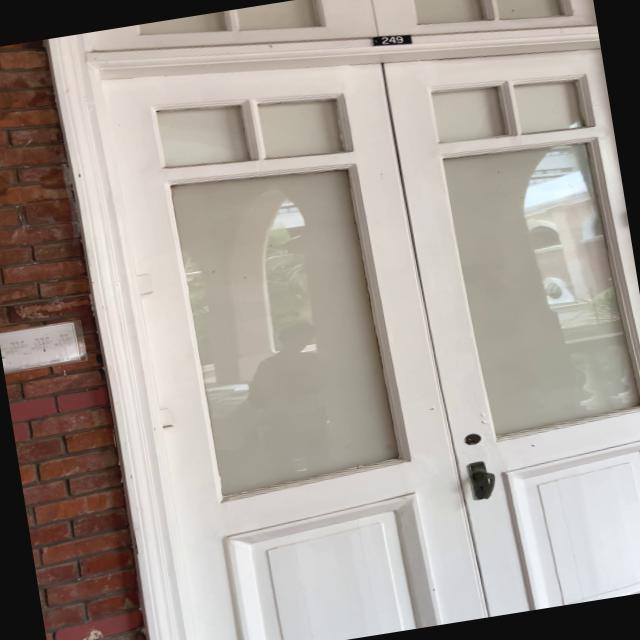room249: (366, 30, 417, 56)
